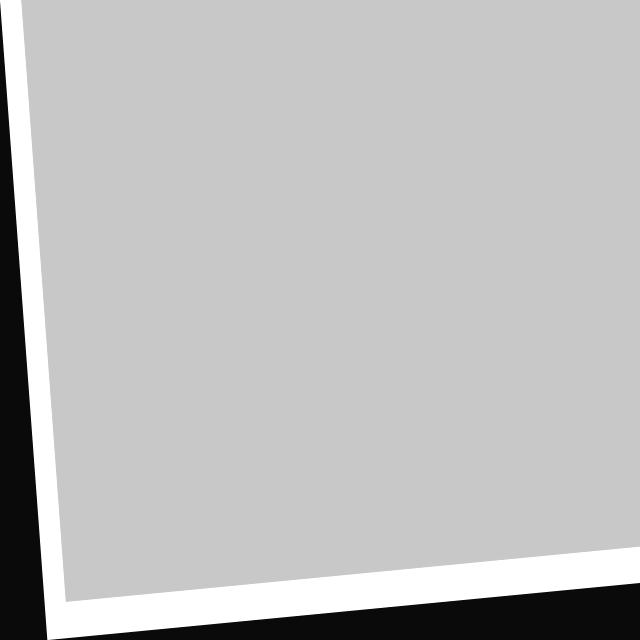qr_code: (21, 0, 640, 602)
